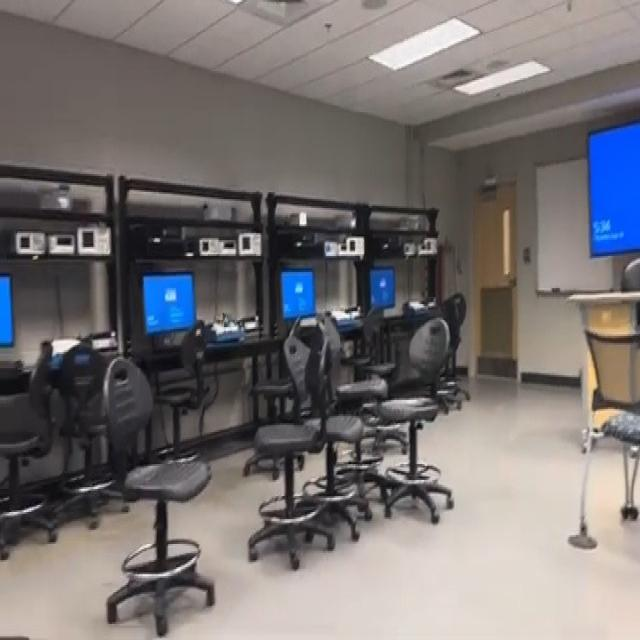drone: (213, 292, 241, 340)
